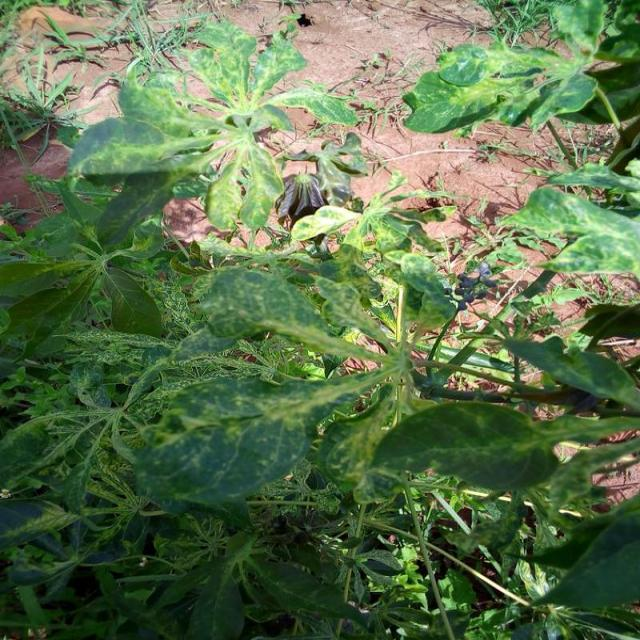cassava leaf: (133, 367, 388, 516), (364, 398, 562, 496), (199, 264, 378, 362)
